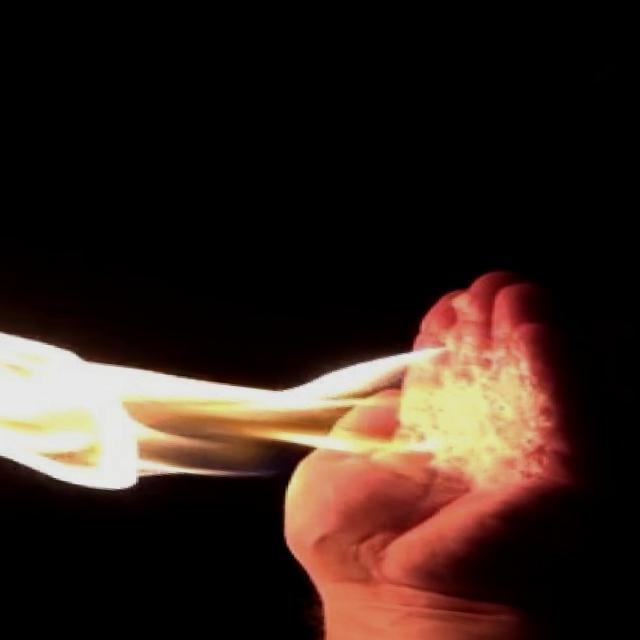Fire: (0, 304, 479, 525)
